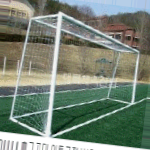goals: (8, 8, 141, 138)
